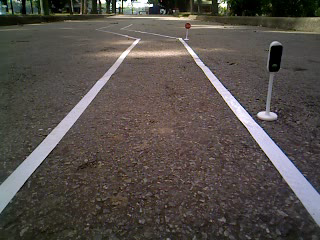Blue: (265, 39, 288, 74)
